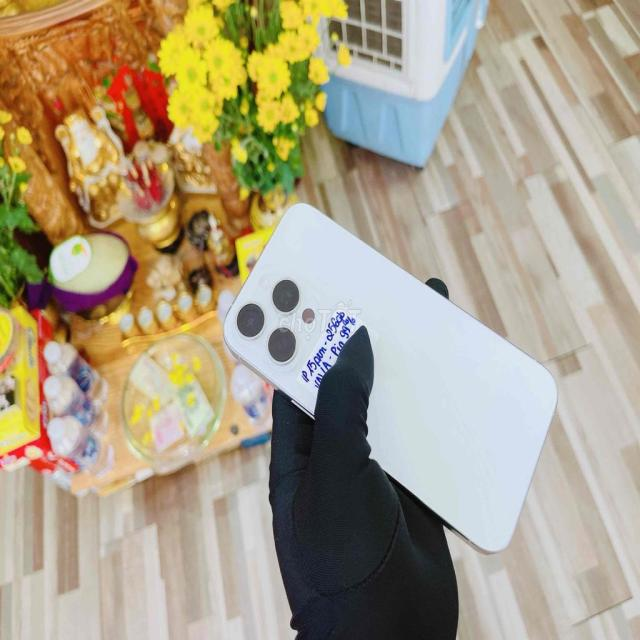gen_12_13: (222, 199, 564, 564)
